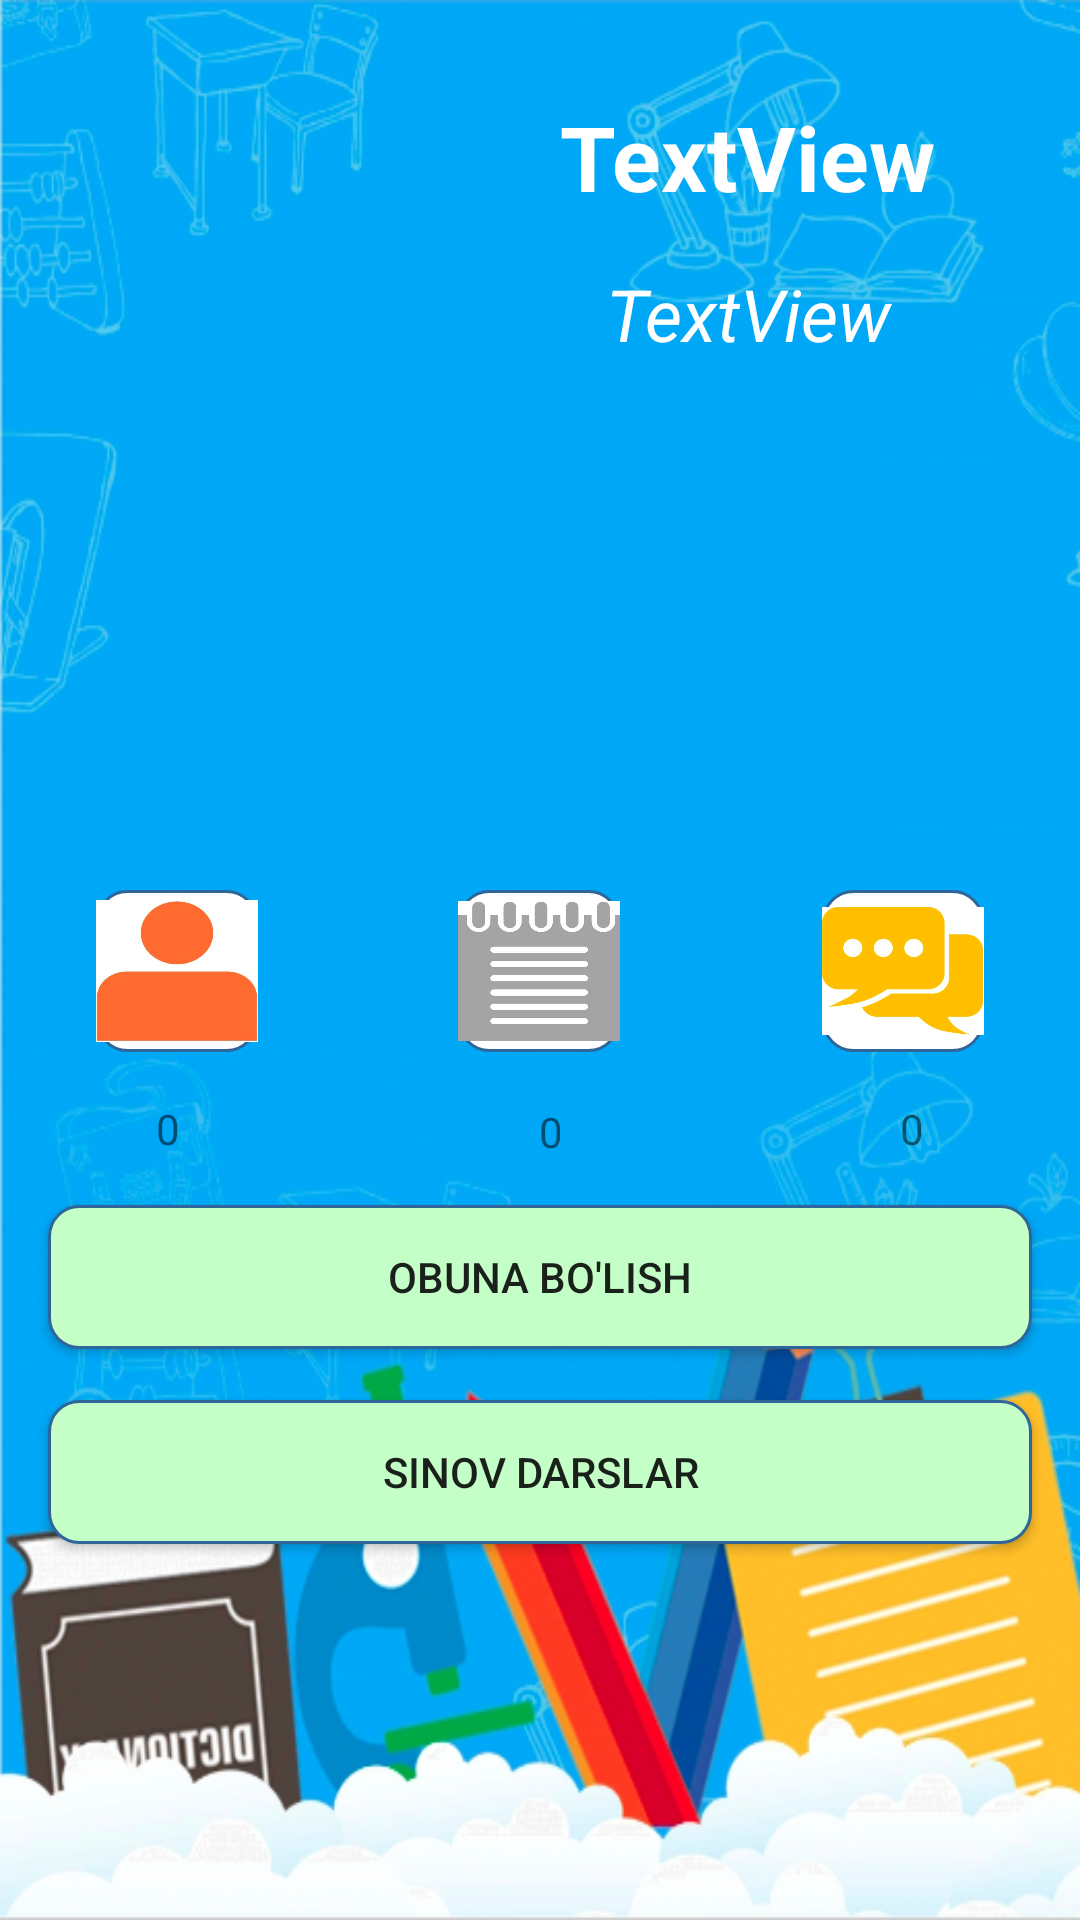

Where to tap for icons on this 1080 x 1920 app screen, as point (x, y):
people: point (177, 971)
xabar: point (903, 971)
